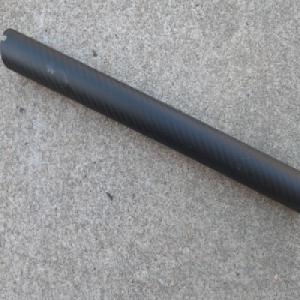LuggagePart: (0, 26, 300, 214)
